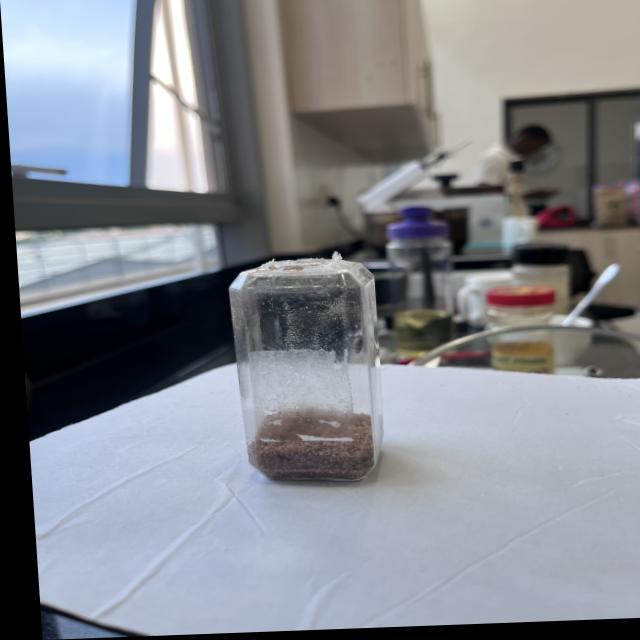maggie_open: (242, 406, 372, 486)
